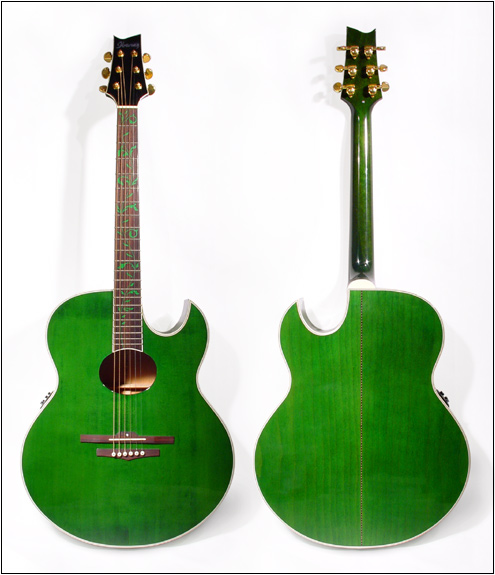guitar: (254, 26, 469, 550), (22, 33, 235, 550)
